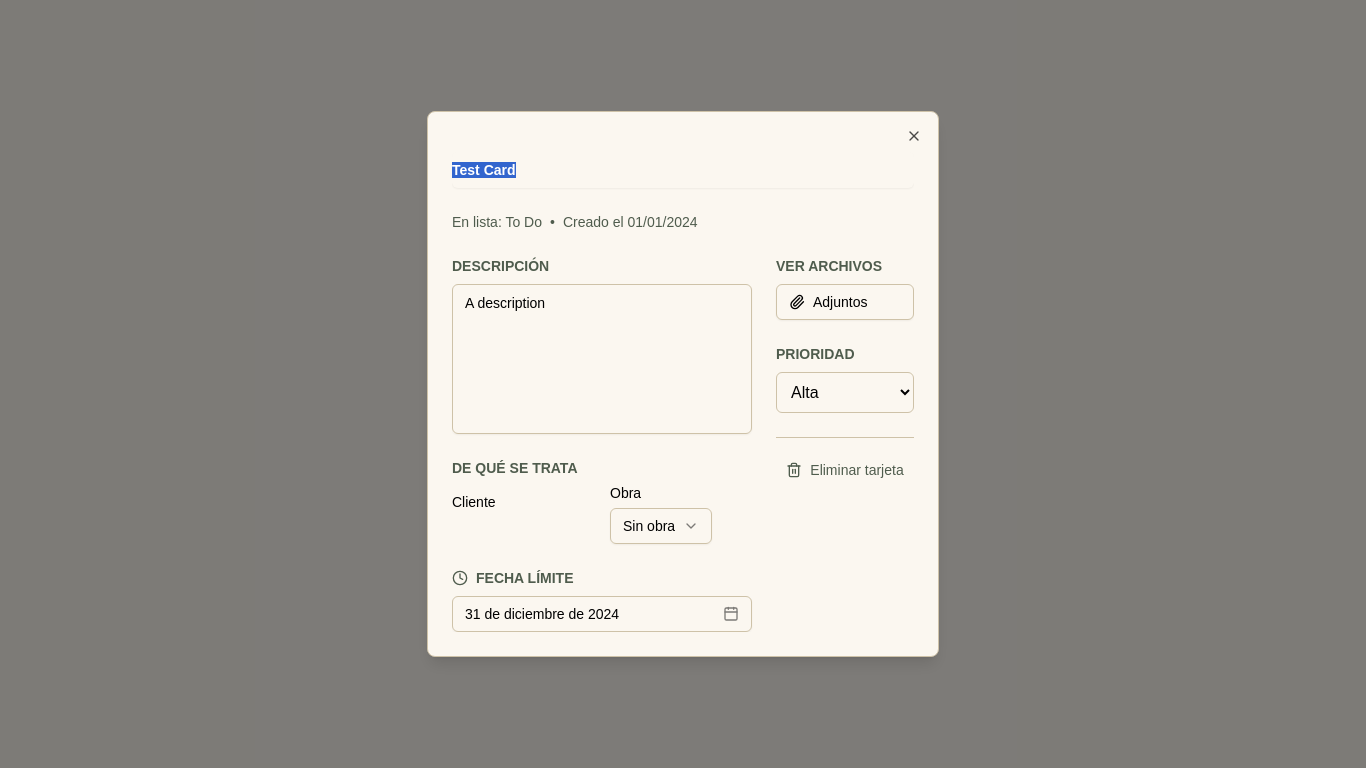
Test: CardDetailModal › shows unsaved changes confirmation when closing with changes
This screenshot has width=1366, height=768.
Clear the field showing "Test Card" at coordinates (683, 170), box [452, 152, 914, 188]
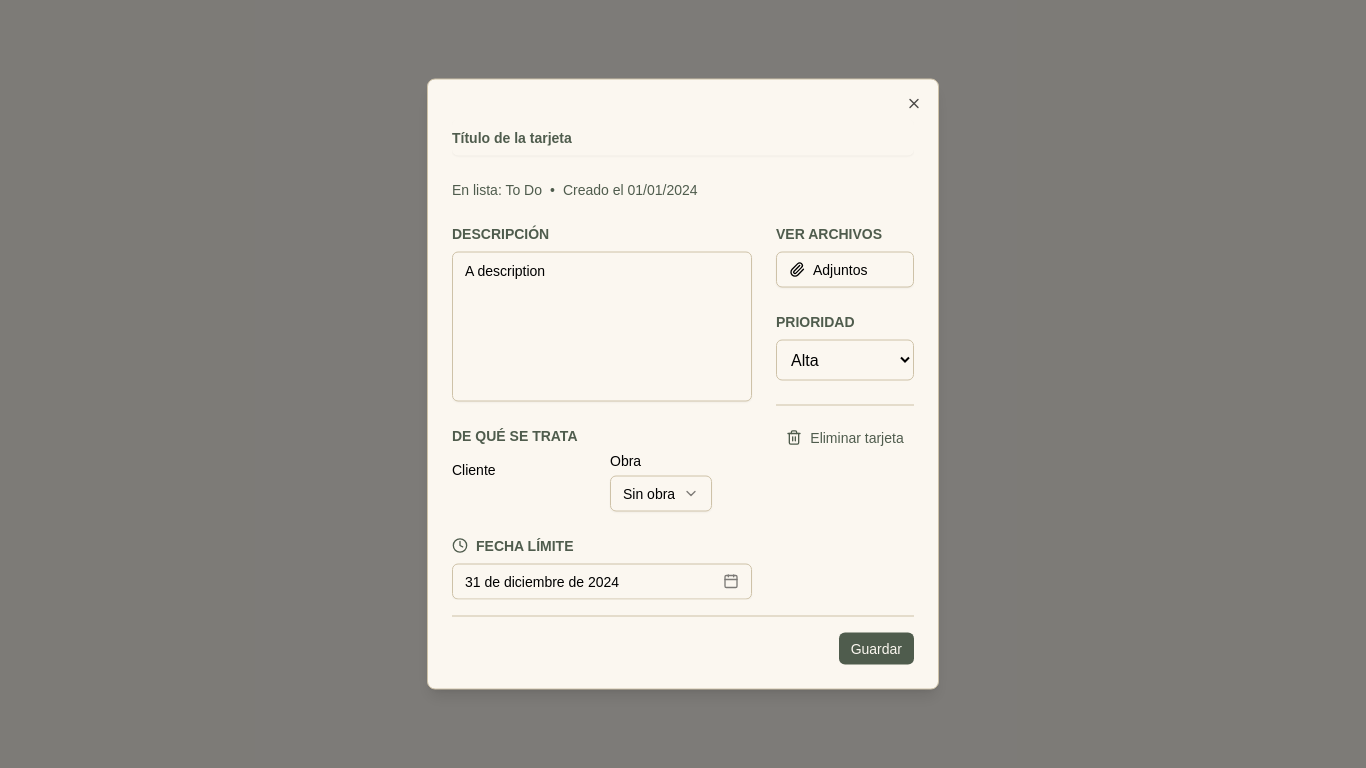
Type "Modified" into the field showing "Test Card" at coordinates (683, 138), box [452, 120, 914, 156]
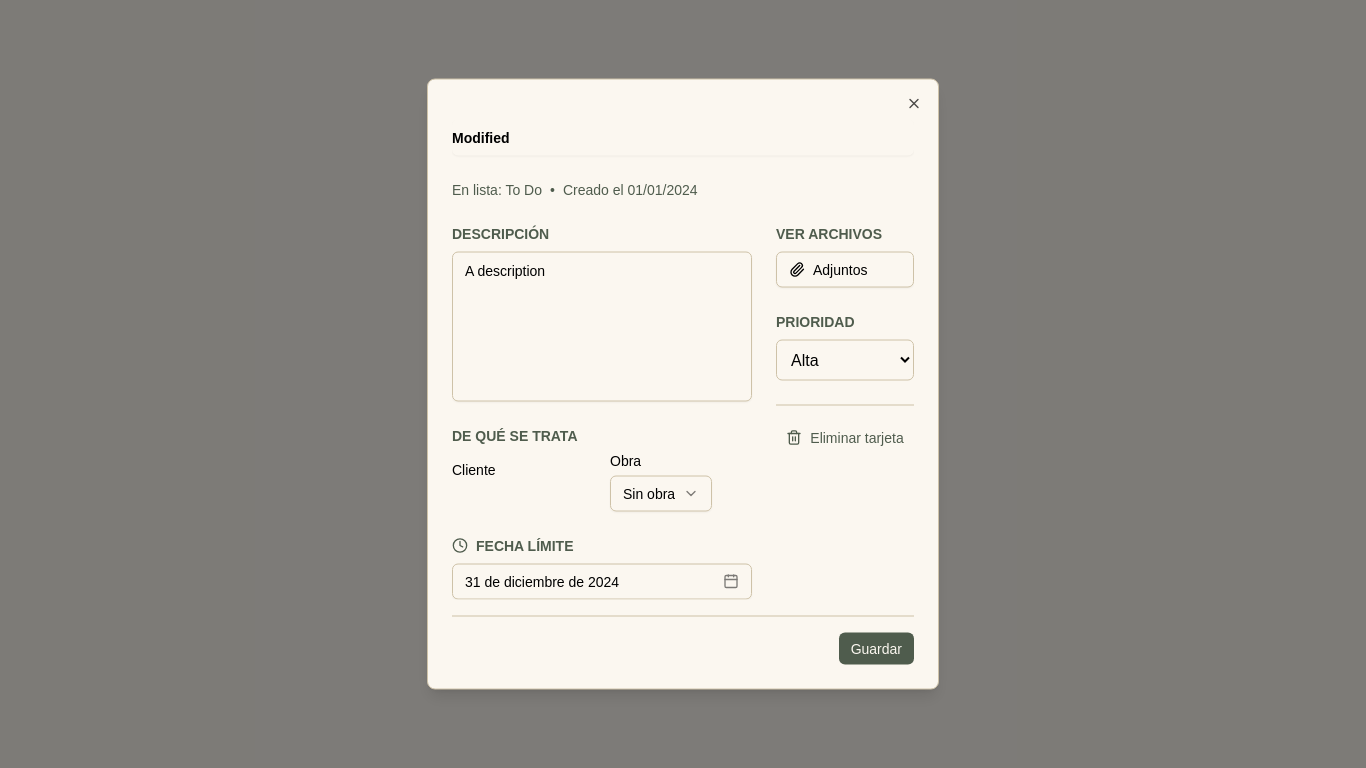
Click the button named "close" at coordinates (914, 104), box [906, 96, 922, 112]
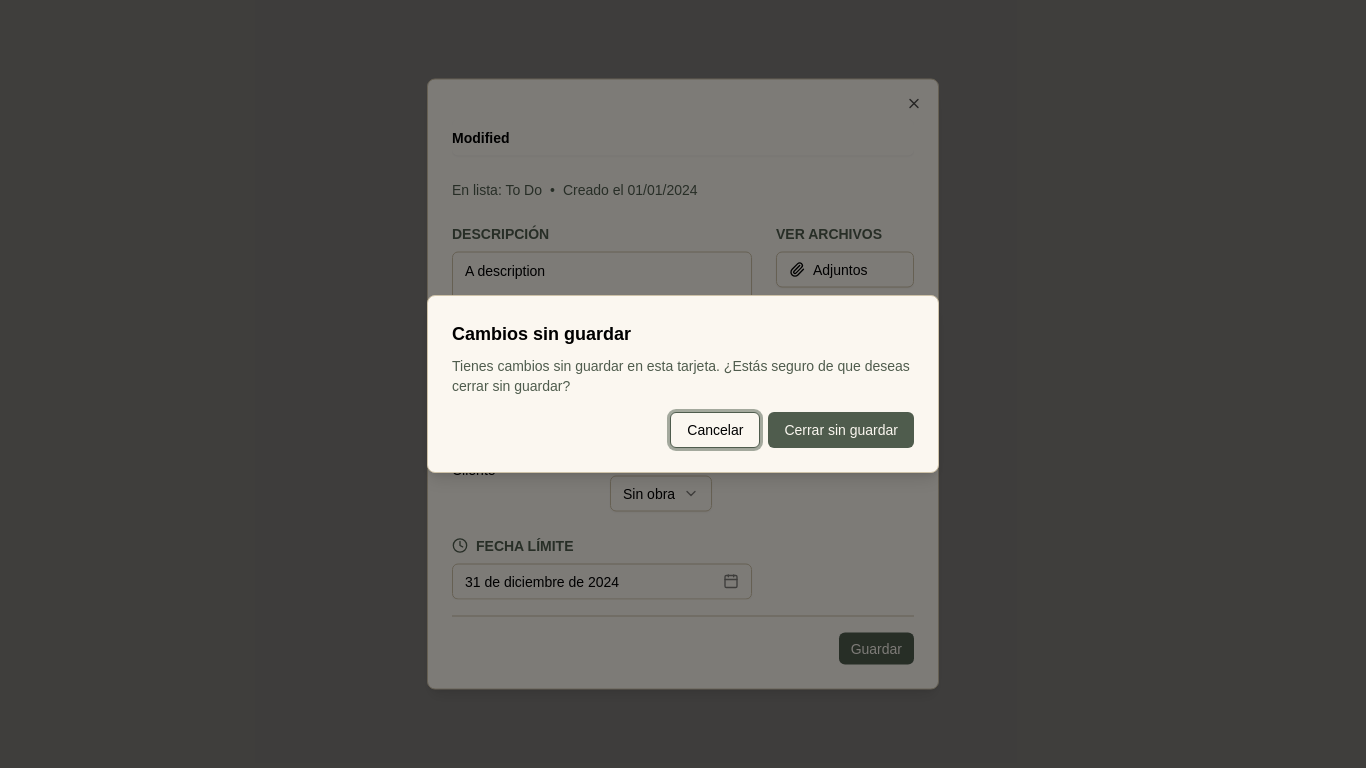
Result: the heading "Cambios sin guardar" is shown at [452, 324, 631, 344]
